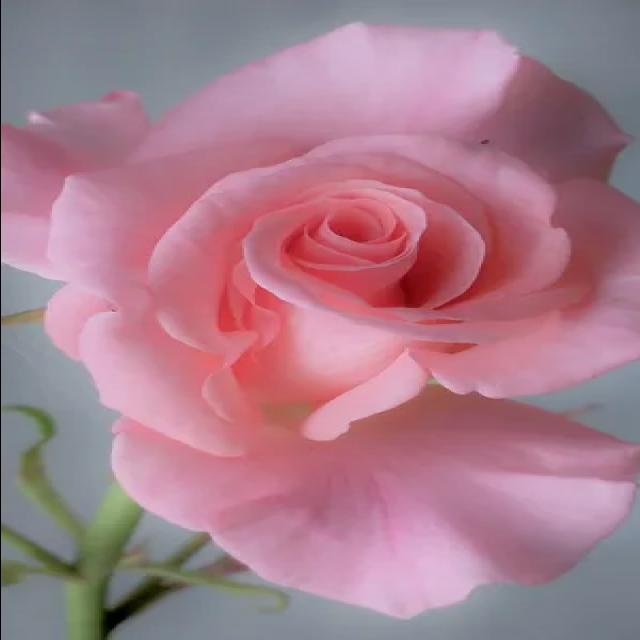rose: (0, 17, 640, 610)
